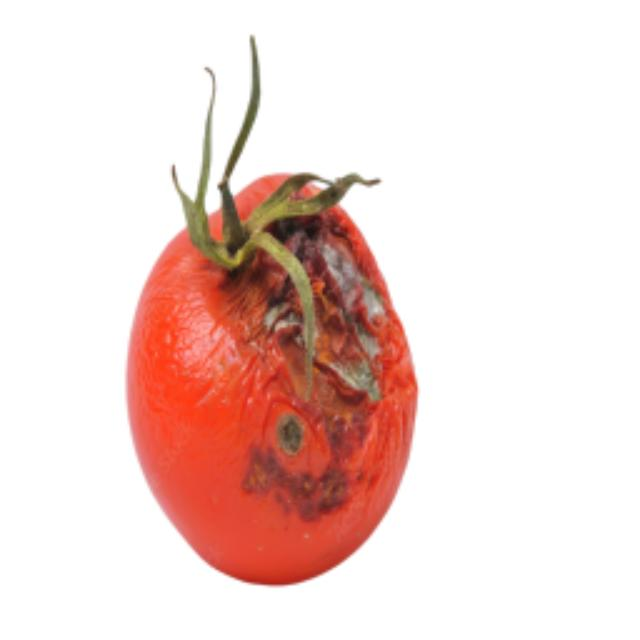defect: (114, 166, 429, 599)
